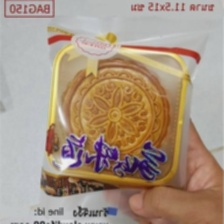snack: (32, 13, 217, 211)
